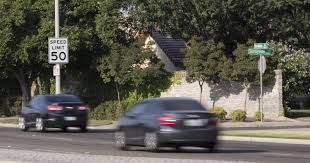speedLimit50: (46, 36, 69, 64)
